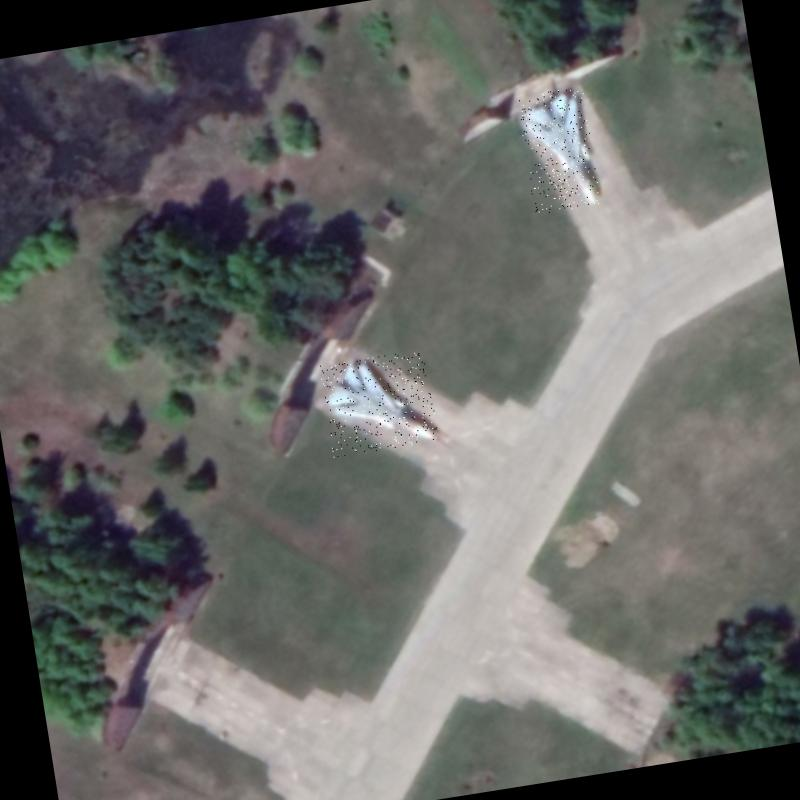A20: (318, 349, 438, 458), (516, 86, 601, 214)
